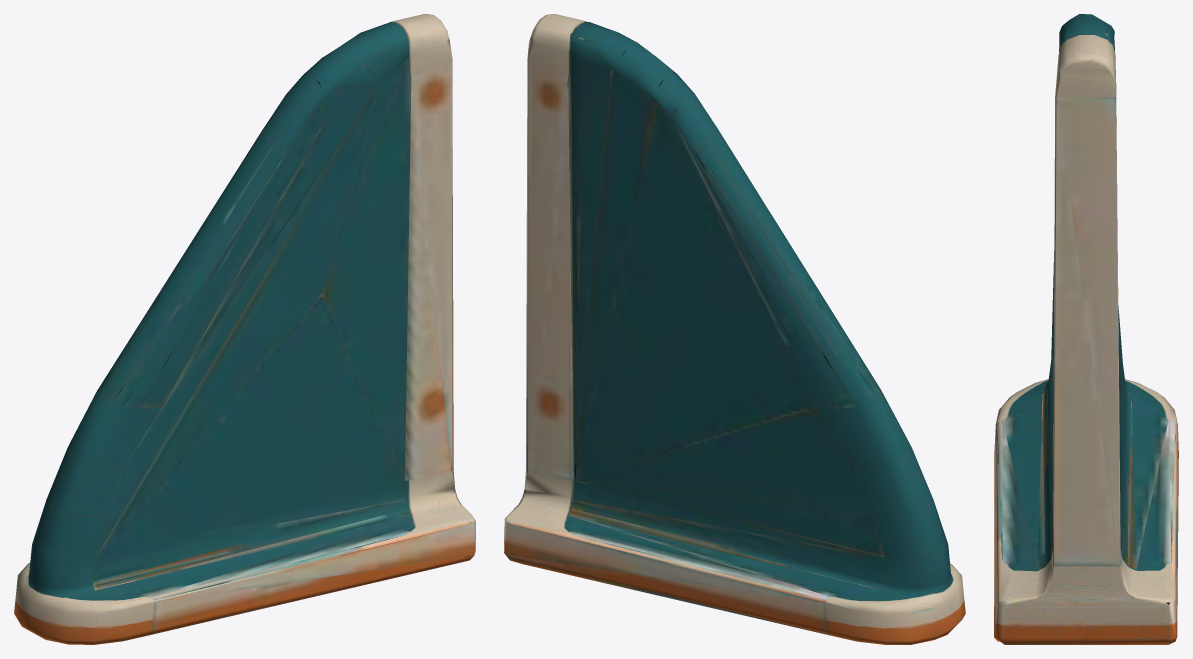
File: rocket_fin-lod0.7ac7fcf88bd7.glb
The picture shows the model from 3 angles, left to right: view 1: azimuth 30°, elevation 25°; view 2: azimuth 150°, elevation 25°; view 3: azimuth 270°, elevation 25°; orthographic projection. The views are drawn at different scales.
Parts seen in each view (by area): view 1: geometry_0; view 2: geometry_0; view 3: geometry_0.
Boxes of the visible parts, <box> form: geometry_0: <box>14,14,475,644</box>; geometry_0: <box>504,14,965,644</box>; geometry_0: <box>994,14,1178,644</box>.
Size of the model in its own units: 0.7979 by 0.9526 by 0.269.
Materials: 1 (1 with a texture image).
